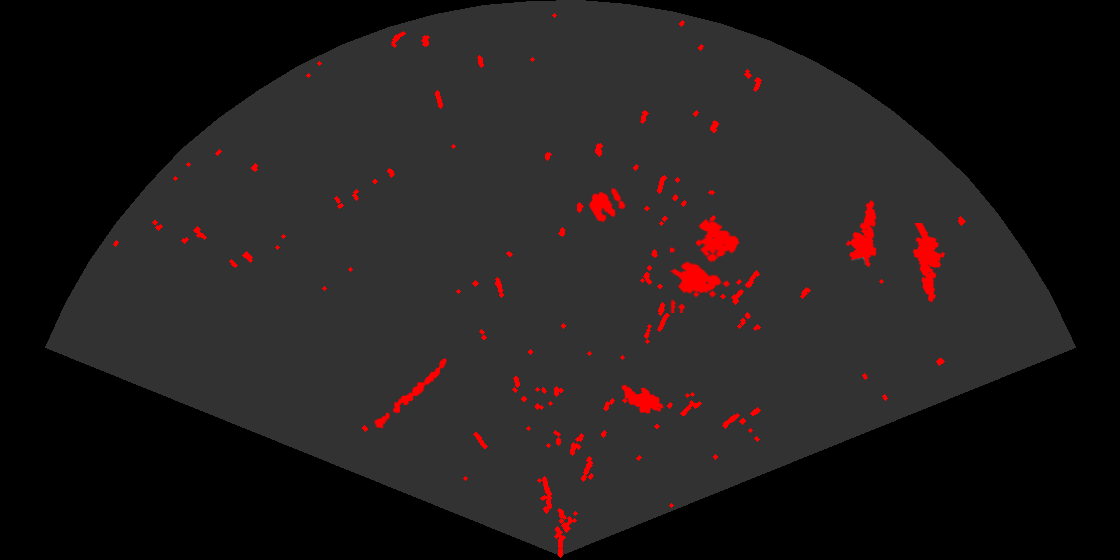AUV: (620, 383, 665, 415)
ball: (587, 186, 627, 224)
cage: (670, 217, 741, 313)
chain: (373, 357, 448, 430)
frogman: (911, 223, 947, 304), (844, 199, 878, 269)
